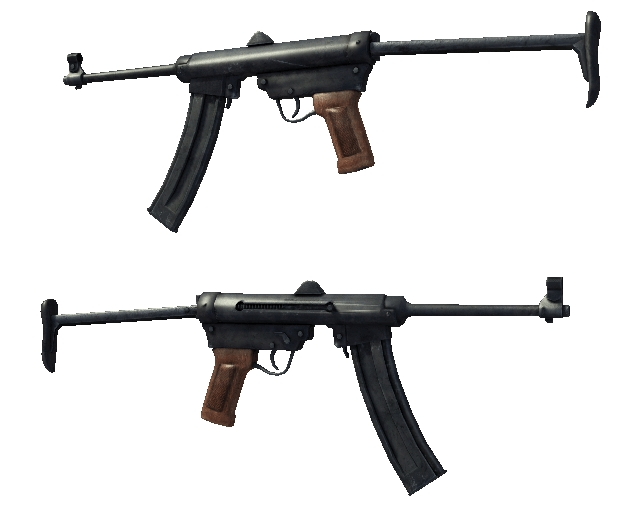rifle: (31, 261, 585, 490), (44, 17, 616, 236)
